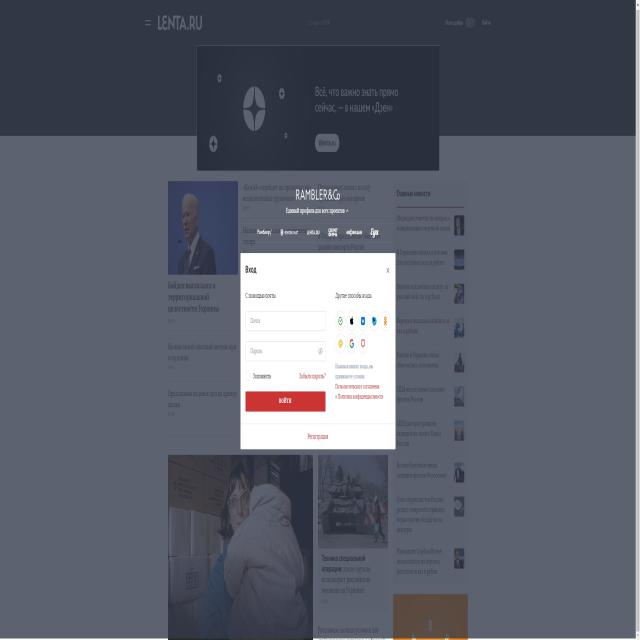menu-bar: (435, 10, 497, 38)
